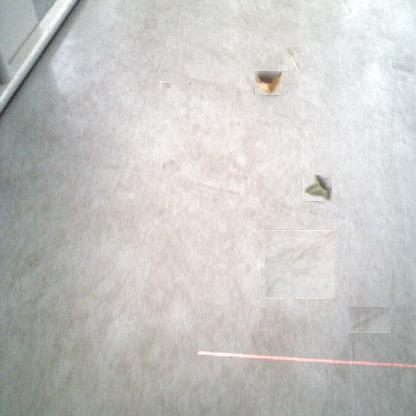dirty: (304, 173, 332, 202), (254, 70, 282, 95), (280, 49, 302, 70)
mark: (266, 230, 335, 298), (348, 307, 390, 333), (394, 55, 416, 78), (161, 158, 176, 170), (161, 80, 170, 89), (185, 78, 195, 86), (199, 92, 205, 102)
